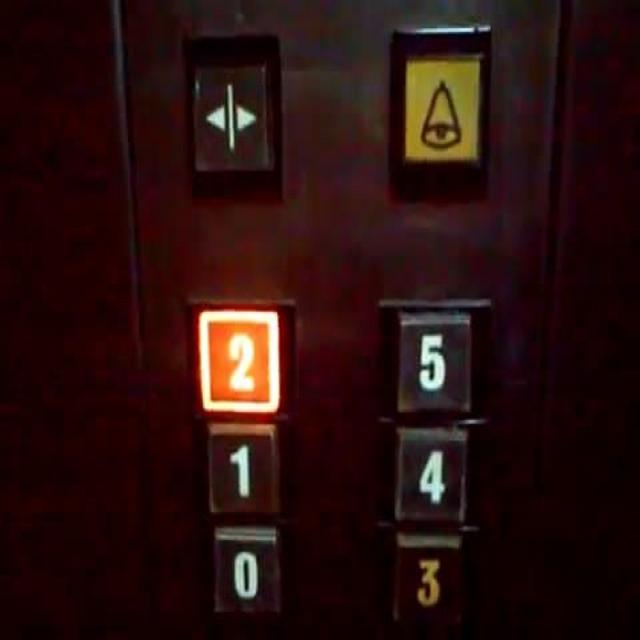0: (196, 514, 294, 622)
1: (192, 417, 297, 519)
2: (185, 296, 295, 421)
3: (378, 520, 477, 637)
4: (378, 416, 483, 527)
5: (375, 298, 489, 422)
alarm: (390, 23, 494, 200)
open: (180, 32, 289, 204)
